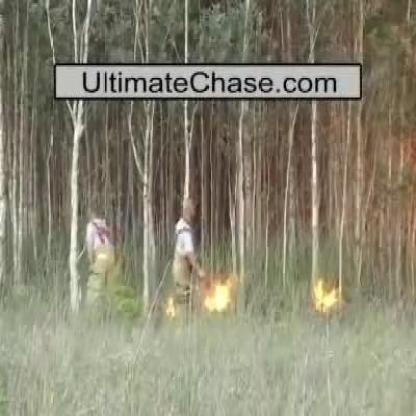foggia-v2-map80-epoch100 - v1 4323: (314, 282, 338, 314), (206, 286, 230, 310)
